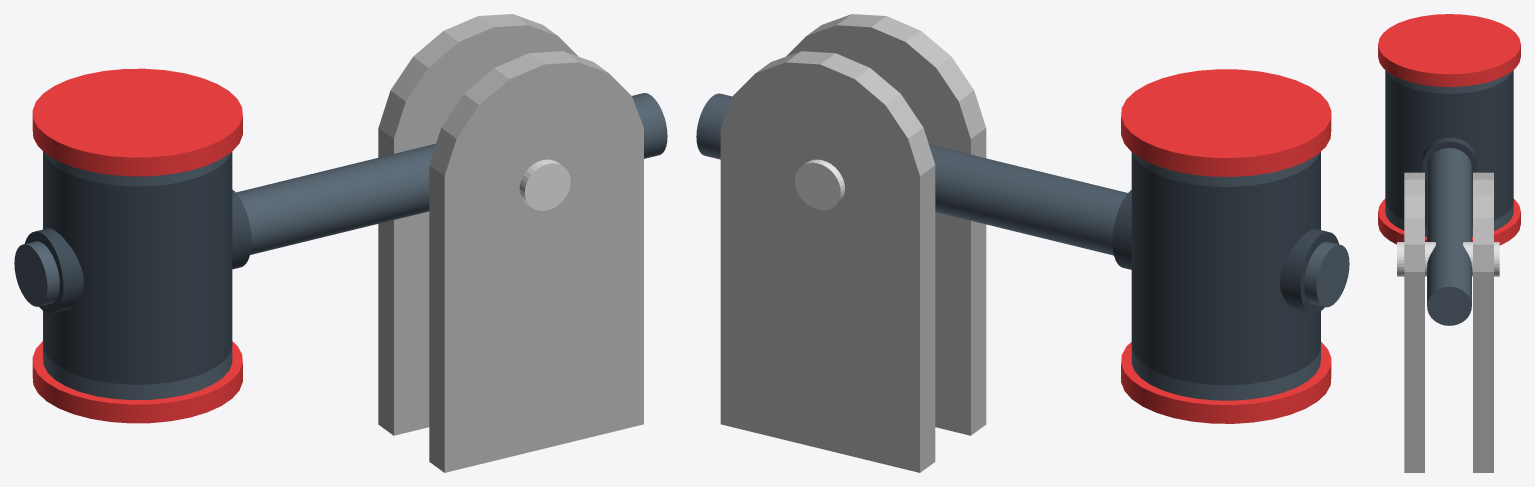
Rendered from cekic.fbx.
3 renders of one model, left to right at view 1: azimuth 30°, elevation 25°; view 2: azimuth 150°, elevation 25°; view 3: azimuth 270°, elevation 25°, orthographic. The views are drawn at different scales.
Visible parts, largest first — view 1: Circle.004, Circle.006, Circle, Circle.003, Circle.001, Circle.002, Circle.005; view 2: Circle.004, Circle.006, Circle, Circle.003, Circle.001, Circle.002, Circle.005; view 3: Circle.004, Circle.006, Circle, Circle.003, Circle.001, Circle.005, Circle.002.
Boxes of the visible parts, x1=… form: Circle.004: x1=378, y1=14, x2=643, y2=472; Circle.006: x1=43, y1=151, x2=232, y2=384; Circle: x1=32, y1=68, x2=242, y2=423; Circle.003: x1=14, y1=93, x2=667, y2=306; Circle.001: x1=43, y1=152, x2=232, y2=400; Circle.002: x1=24, y1=189, x2=251, y2=313; Circle.005: x1=519, y1=159, x2=570, y2=210; Circle.004: x1=720, y1=14, x2=986, y2=472; Circle.006: x1=1131, y1=152, x2=1320, y2=385; Circle: x1=1121, y1=69, x2=1331, y2=423; Circle.003: x1=696, y1=93, x2=1349, y2=307; Circle.001: x1=1131, y1=153, x2=1320, y2=400; Circle.002: x1=1112, y1=190, x2=1339, y2=313; Circle.005: x1=795, y1=159, x2=844, y2=210; Circle.004: x1=1404, y1=172, x2=1493, y2=472; Circle.006: x1=1385, y1=70, x2=1513, y2=226; Circle: x1=1378, y1=14, x2=1520, y2=245; Circle.003: x1=1427, y1=148, x2=1471, y2=325; Circle.001: x1=1385, y1=70, x2=1513, y2=236; Circle.005: x1=1397, y1=242, x2=1499, y2=276; Circle.002: x1=1422, y1=137, x2=1476, y2=181.
Size of the model in its own units: 180 by 380 by 613.
